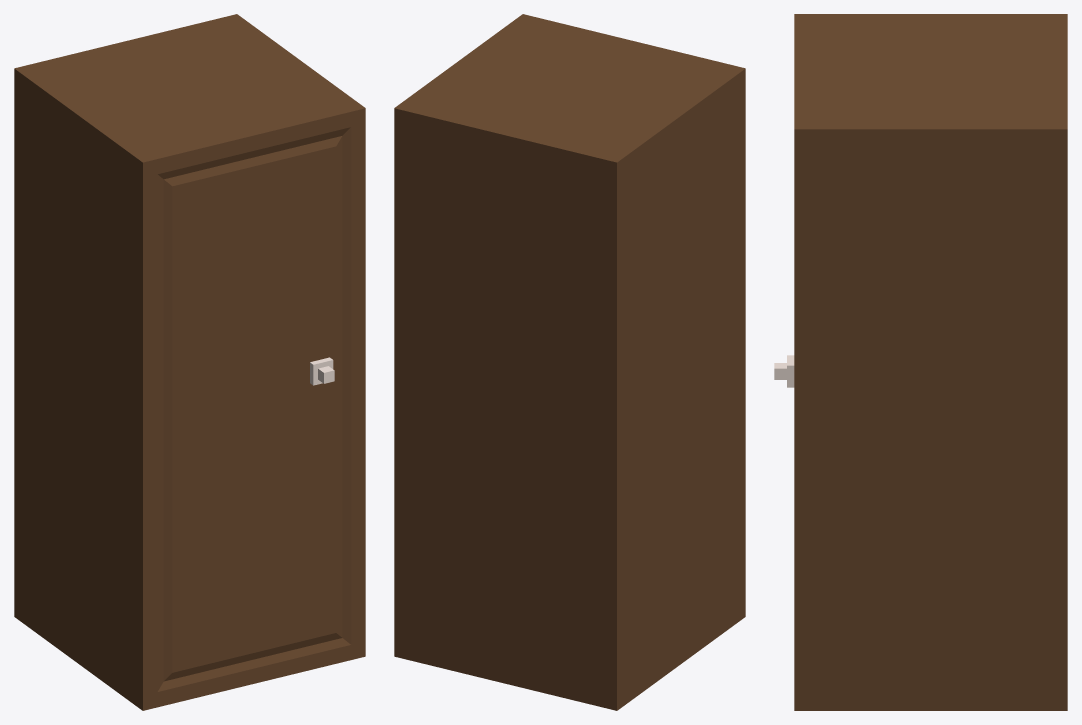
File: wardrobe.fbx
The picture shows the model from 3 angles, left to right: view 1: azimuth 30°, elevation 25°; view 2: azimuth 150°, elevation 25°; view 3: azimuth 270°, elevation 25°; orthographic projection. The views are drawn at different scales.
Visible parts, largest first — view 1: wardrobe; view 2: wardrobe; view 3: wardrobe.
Boxes of the visible parts, x1,y1,x2,y2 form: wardrobe: (14, 14, 365, 710); wardrobe: (394, 14, 745, 710); wardrobe: (774, 14, 1067, 710).
Size of the model in its own units: 2 by 4.7 by 2.15.
